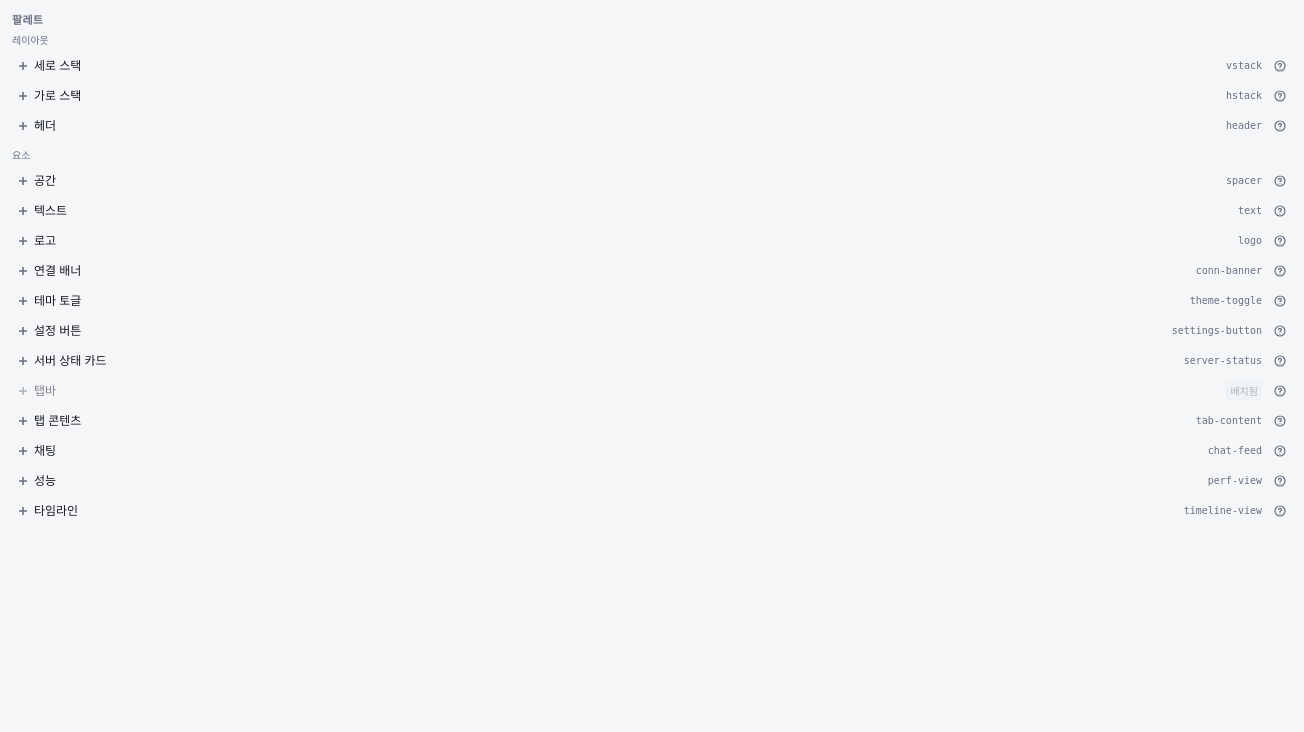
Test case: Palette (도움말 토글 — T3.3) › 배치됨(추가 비활성) 상태에서도 도움말은 열리고, unique 제약 문구를 담는다
The image size is (1304, 732).
Expected: the button with aria-label "탭바 블록 추가" is disabled, x1=12 y1=376 x2=1268 y2=404
Click the button named "탭바 설명". click: (1280,390)
box: x1=1268 y1=378 x2=1292 y2=402
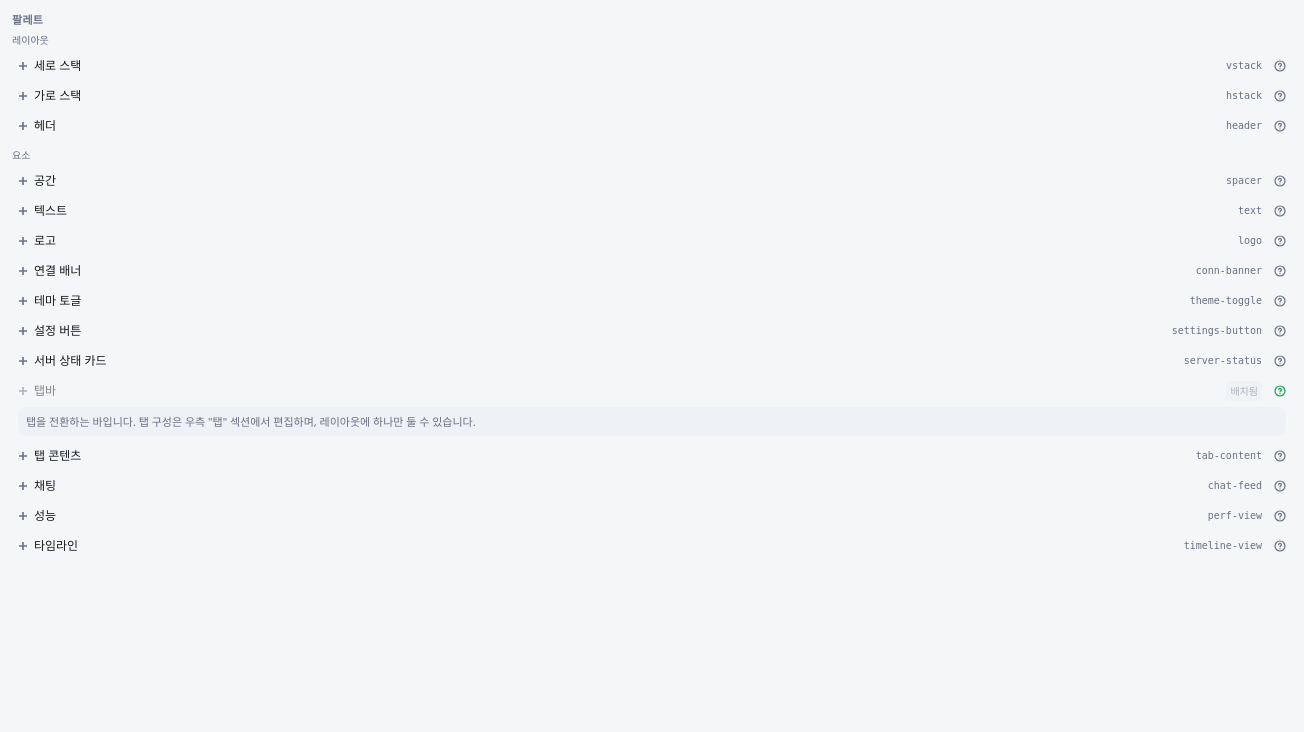
Now the text "탭을 전환하는 바입니다. 탭 구성은 우측 \"탭\" 섹션에서 편집하며, 레이아웃에 하나만 둘 수 있습니다." is shown, box x1=18 y1=406 x2=1286 y2=436
